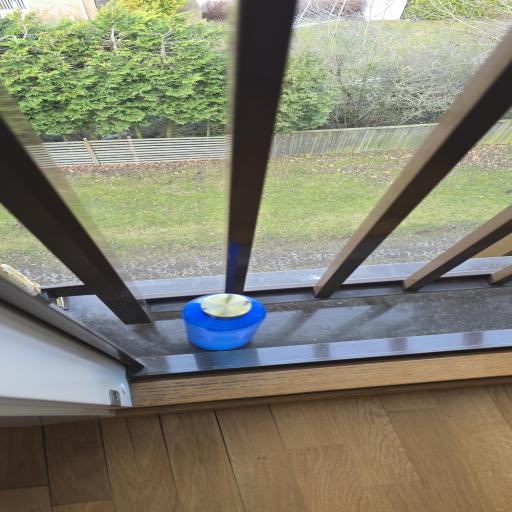bottle: (183, 291, 261, 356)
